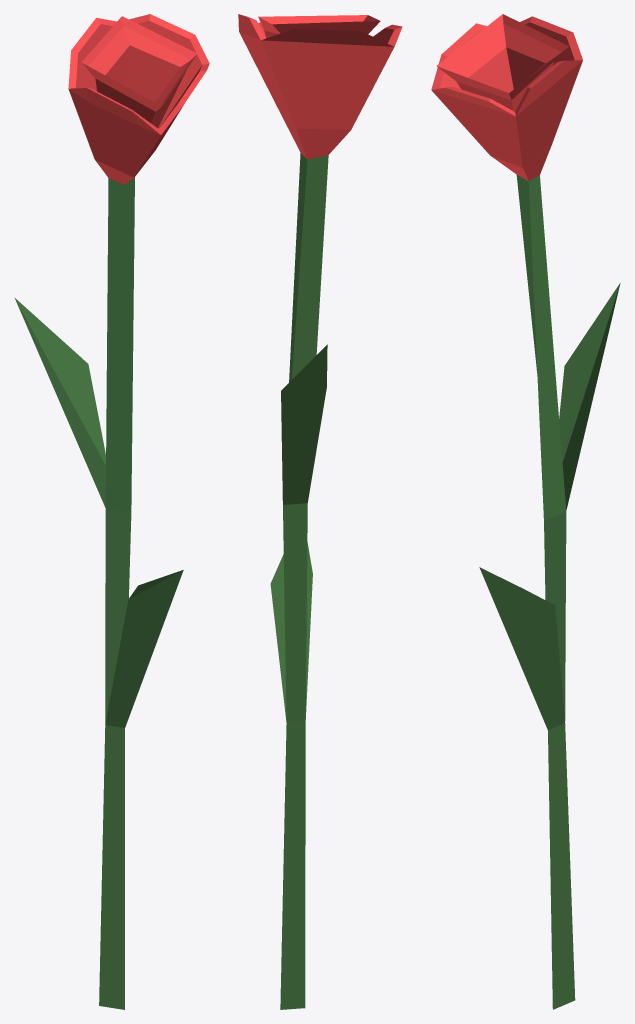
Rendered from flowertulipan03.gltf.
3 renders of one model, left to right at view 1: azimuth 30°, elevation 25°; view 2: azimuth 150°, elevation 25°; view 3: azimuth 270°, elevation 25°, orthographic. The views are drawn at different scales.
Parts seen in each view (by area): view 1: Icosphere; view 2: Icosphere; view 3: Icosphere.
Part boxes in pixels (x1,y1,x2,y2): Icosphere: [14, 14, 209, 1009]; Icosphere: [238, 14, 402, 1009]; Icosphere: [431, 14, 620, 1009].
Size of the model in its own units: 0.1097 by 0.6991 by 0.1239.
1 material, 1 textured.
